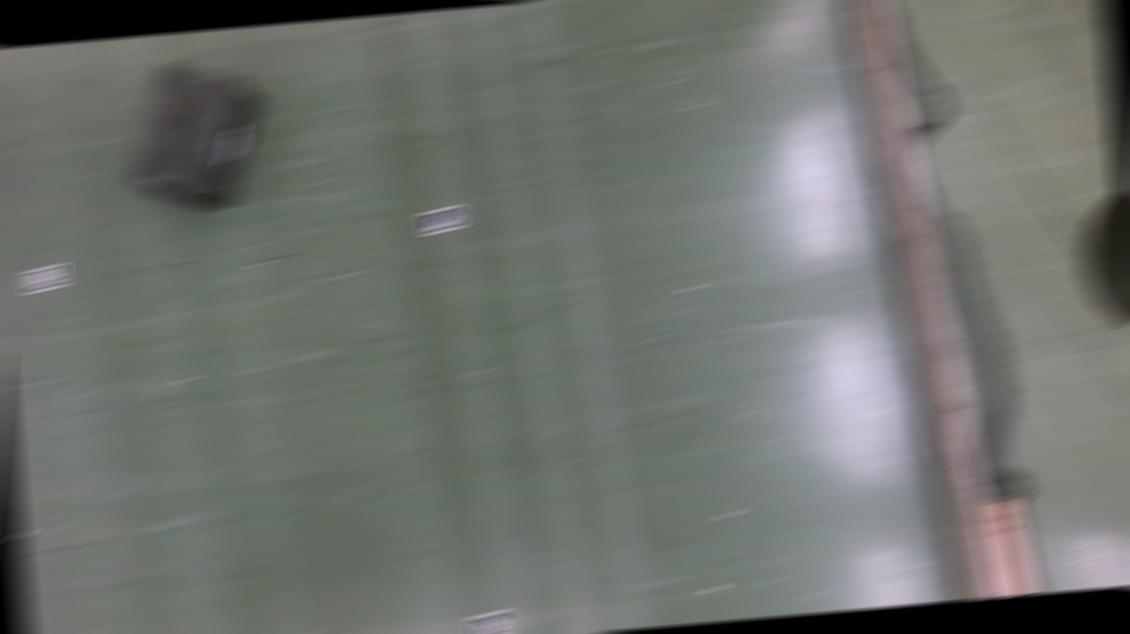probes: (11, 528, 34, 558)
rako: (118, 55, 272, 218)
